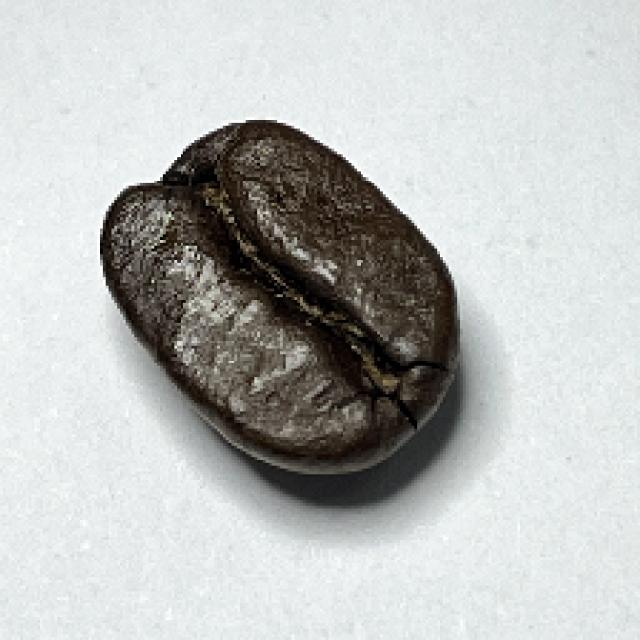bean: (94, 113, 466, 476)
